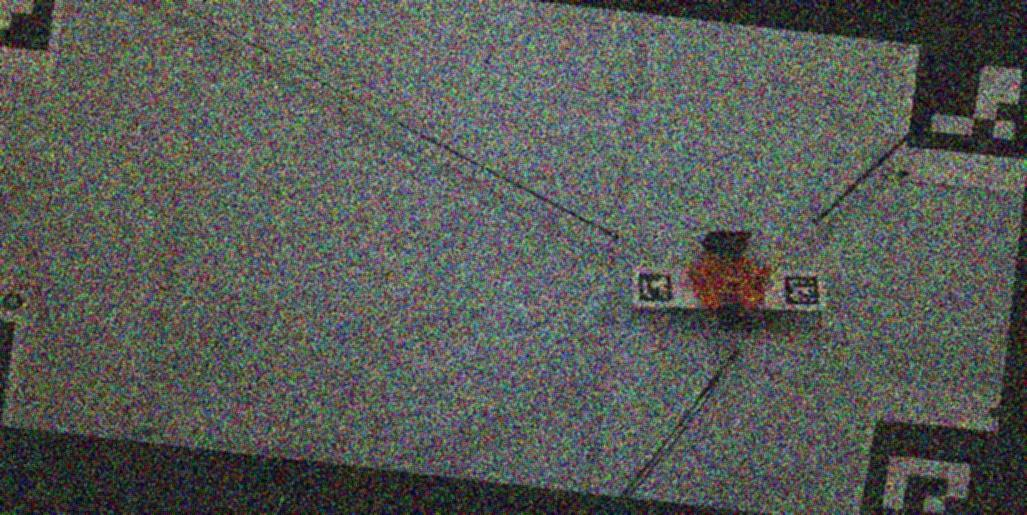robot: (688, 231, 772, 327)
